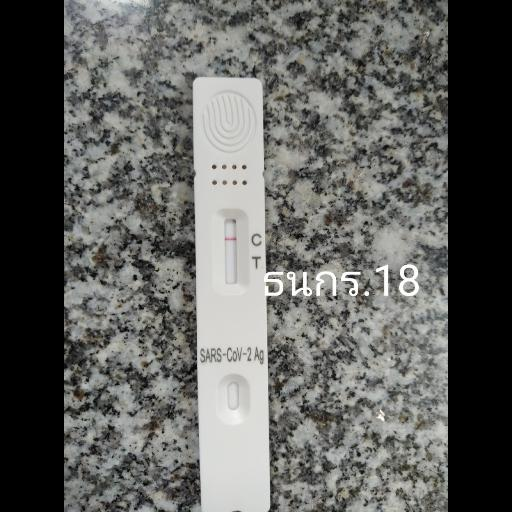Neg: (191, 74, 269, 510)
